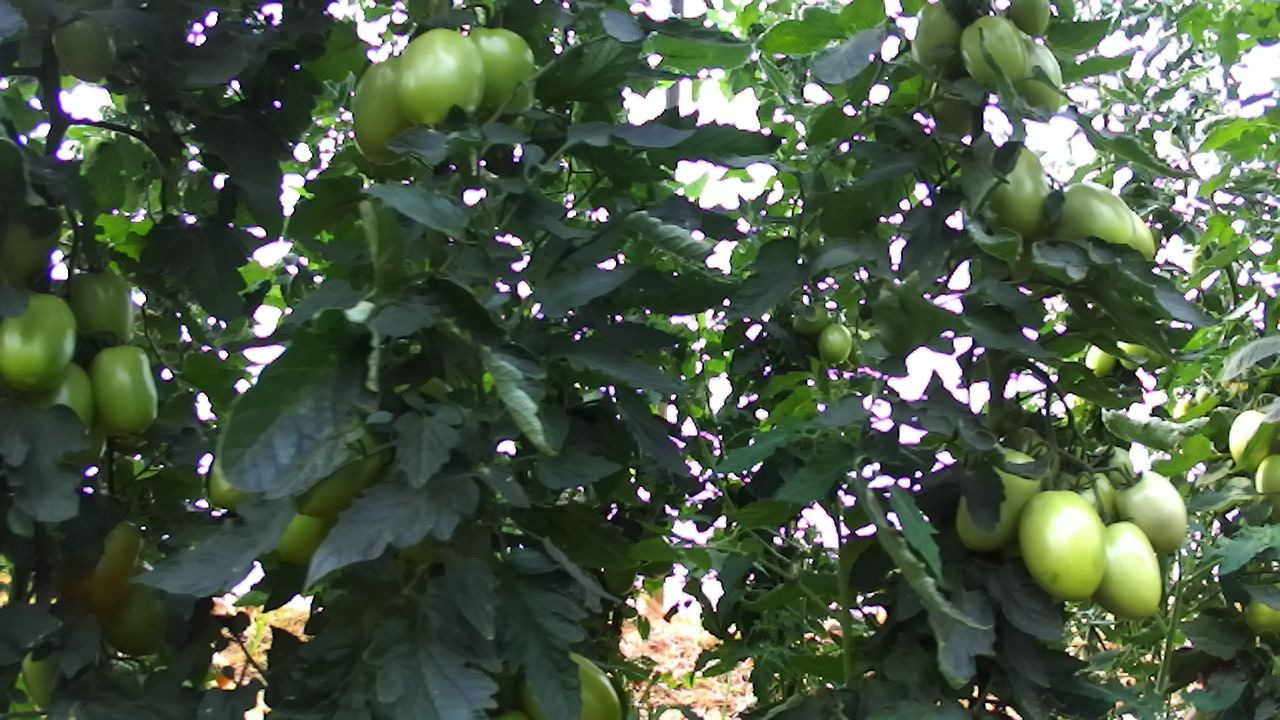tomato: (950, 439, 1051, 560), (1015, 485, 1112, 608), (392, 22, 492, 133), (0, 288, 84, 403), (983, 139, 1057, 251), (346, 53, 413, 175), (85, 337, 161, 441), (463, 16, 539, 119), (1048, 174, 1142, 255), (1094, 519, 1165, 623), (1114, 466, 1192, 557), (101, 569, 173, 661), (953, 10, 1029, 94), (48, 10, 124, 92), (65, 264, 136, 343), (814, 319, 855, 367), (1006, 0, 1054, 39), (790, 299, 831, 337)
